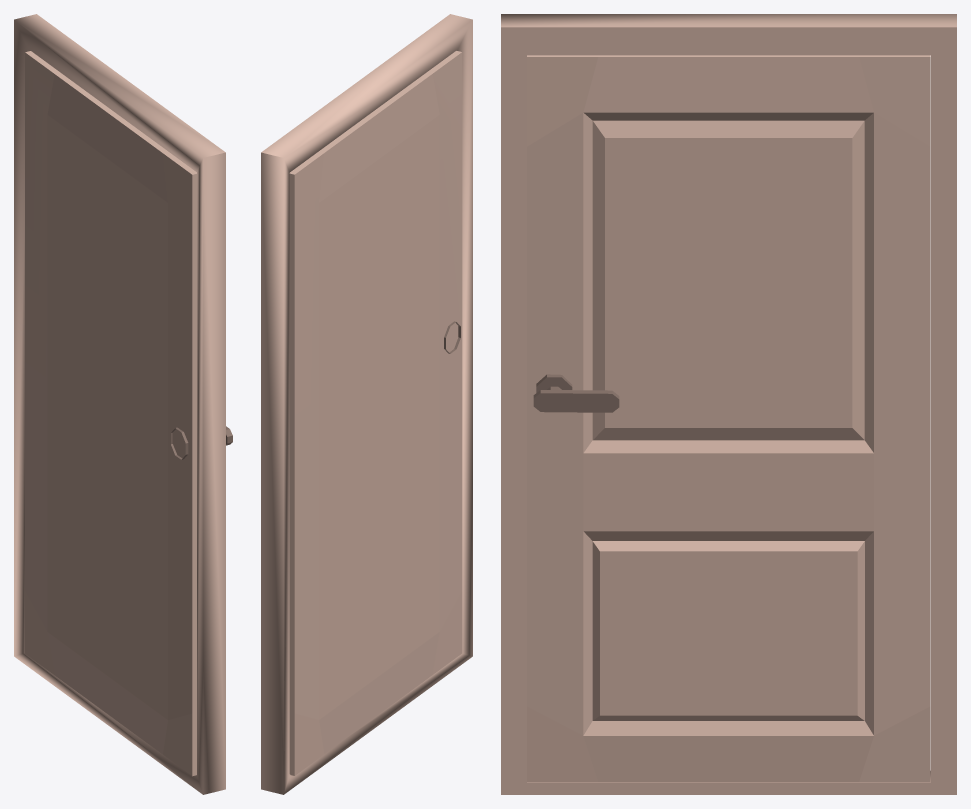
Rendered from Door.fbx.
3 views of the same model, side by side, from view 1: azimuth 30°, elevation 25°; view 2: azimuth 150°, elevation 25°; view 3: azimuth 270°, elevation 25° (orthographic). The views are drawn at different scales.
Visible parts, largest first — view 1: Cube.003, Cube.001; view 2: Cube.003, Cube.001; view 3: Cube.003, Cube.001, Cube.004.
Part boxes in pixels (x1,y1,x2,y2): Cube.003: [25, 51, 196, 776]; Cube.001: [14, 14, 225, 794]; Cube.003: [289, 51, 462, 775]; Cube.001: [261, 14, 472, 794]; Cube.003: [527, 55, 930, 781]; Cube.001: [501, 14, 956, 794]; Cube.004: [533, 374, 619, 412].
Bounding box in the file's own units: 15.1 × 200 × 108.
